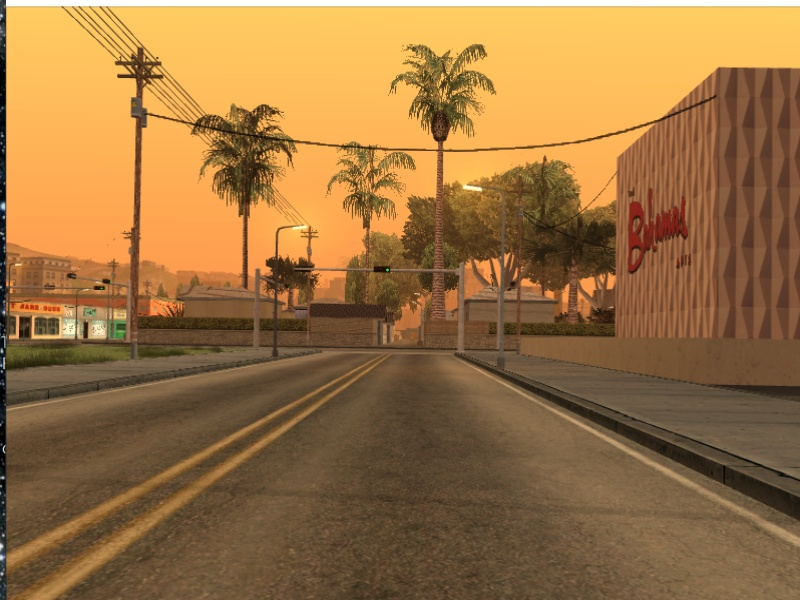pole: (125, 85, 143, 361), (497, 193, 510, 370), (453, 264, 470, 359), (272, 224, 280, 357), (252, 269, 261, 355)
